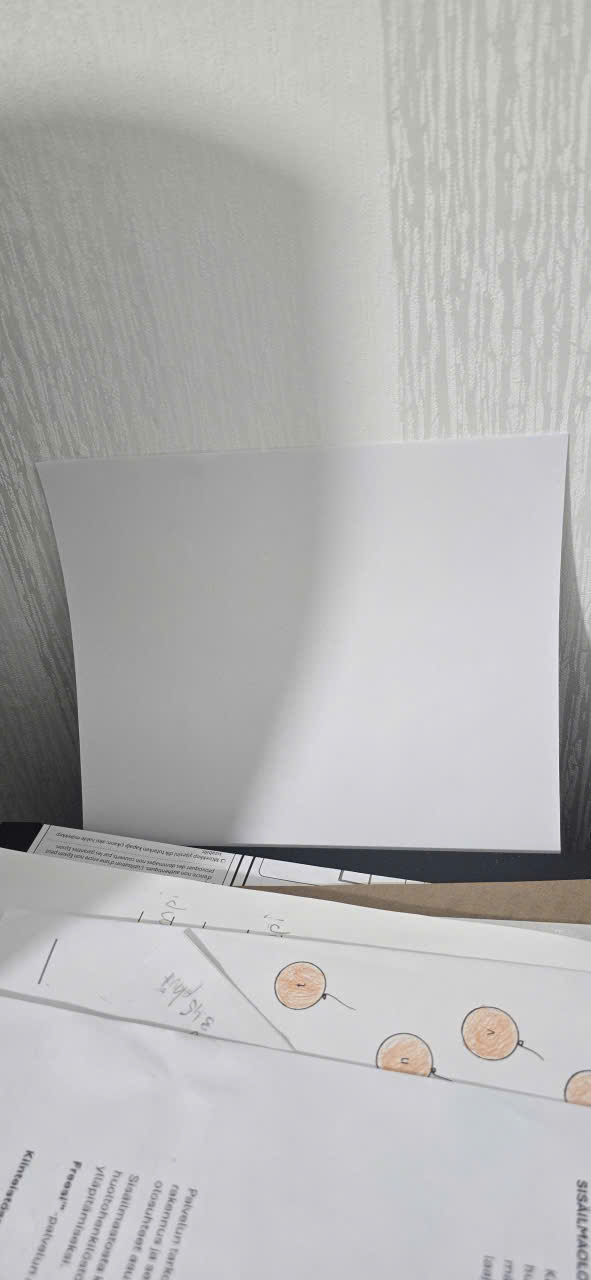paper: (0, 439, 591, 1280)
